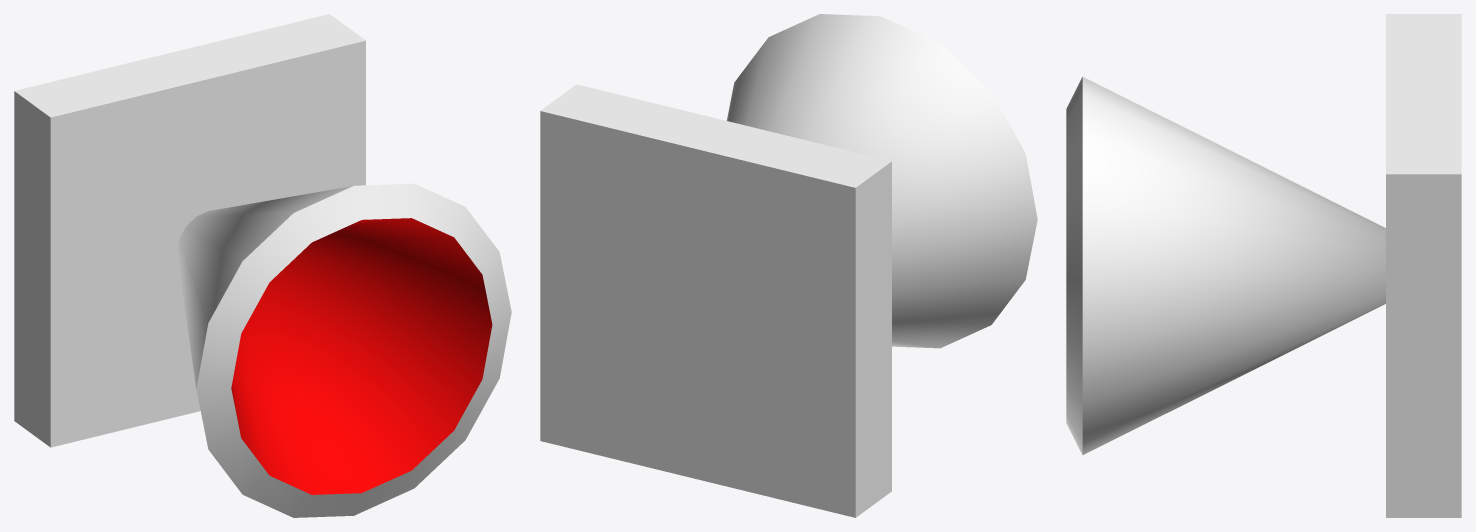
The model's file is manouvering_thruster.obj.
The picture shows the model from 3 angles, left to right: view 1: azimuth 30°, elevation 25°; view 2: azimuth 150°, elevation 25°; view 3: azimuth 270°, elevation 25°; orthographic projection. The views are drawn at different scales.
Visible parts, largest first — view 1: cone1; view 2: cone1; view 3: cone1.
Part boxes in pixels (left/top/right/bottom): cone1: left=14, top=14, right=511, bottom=517; cone1: left=540, top=14, right=1037, bottom=517; cone1: left=1066, top=14, right=1461, bottom=517.
Bounding box in the file's own units: 1 × 1 × 1.04.
1 material, 1 textured.
